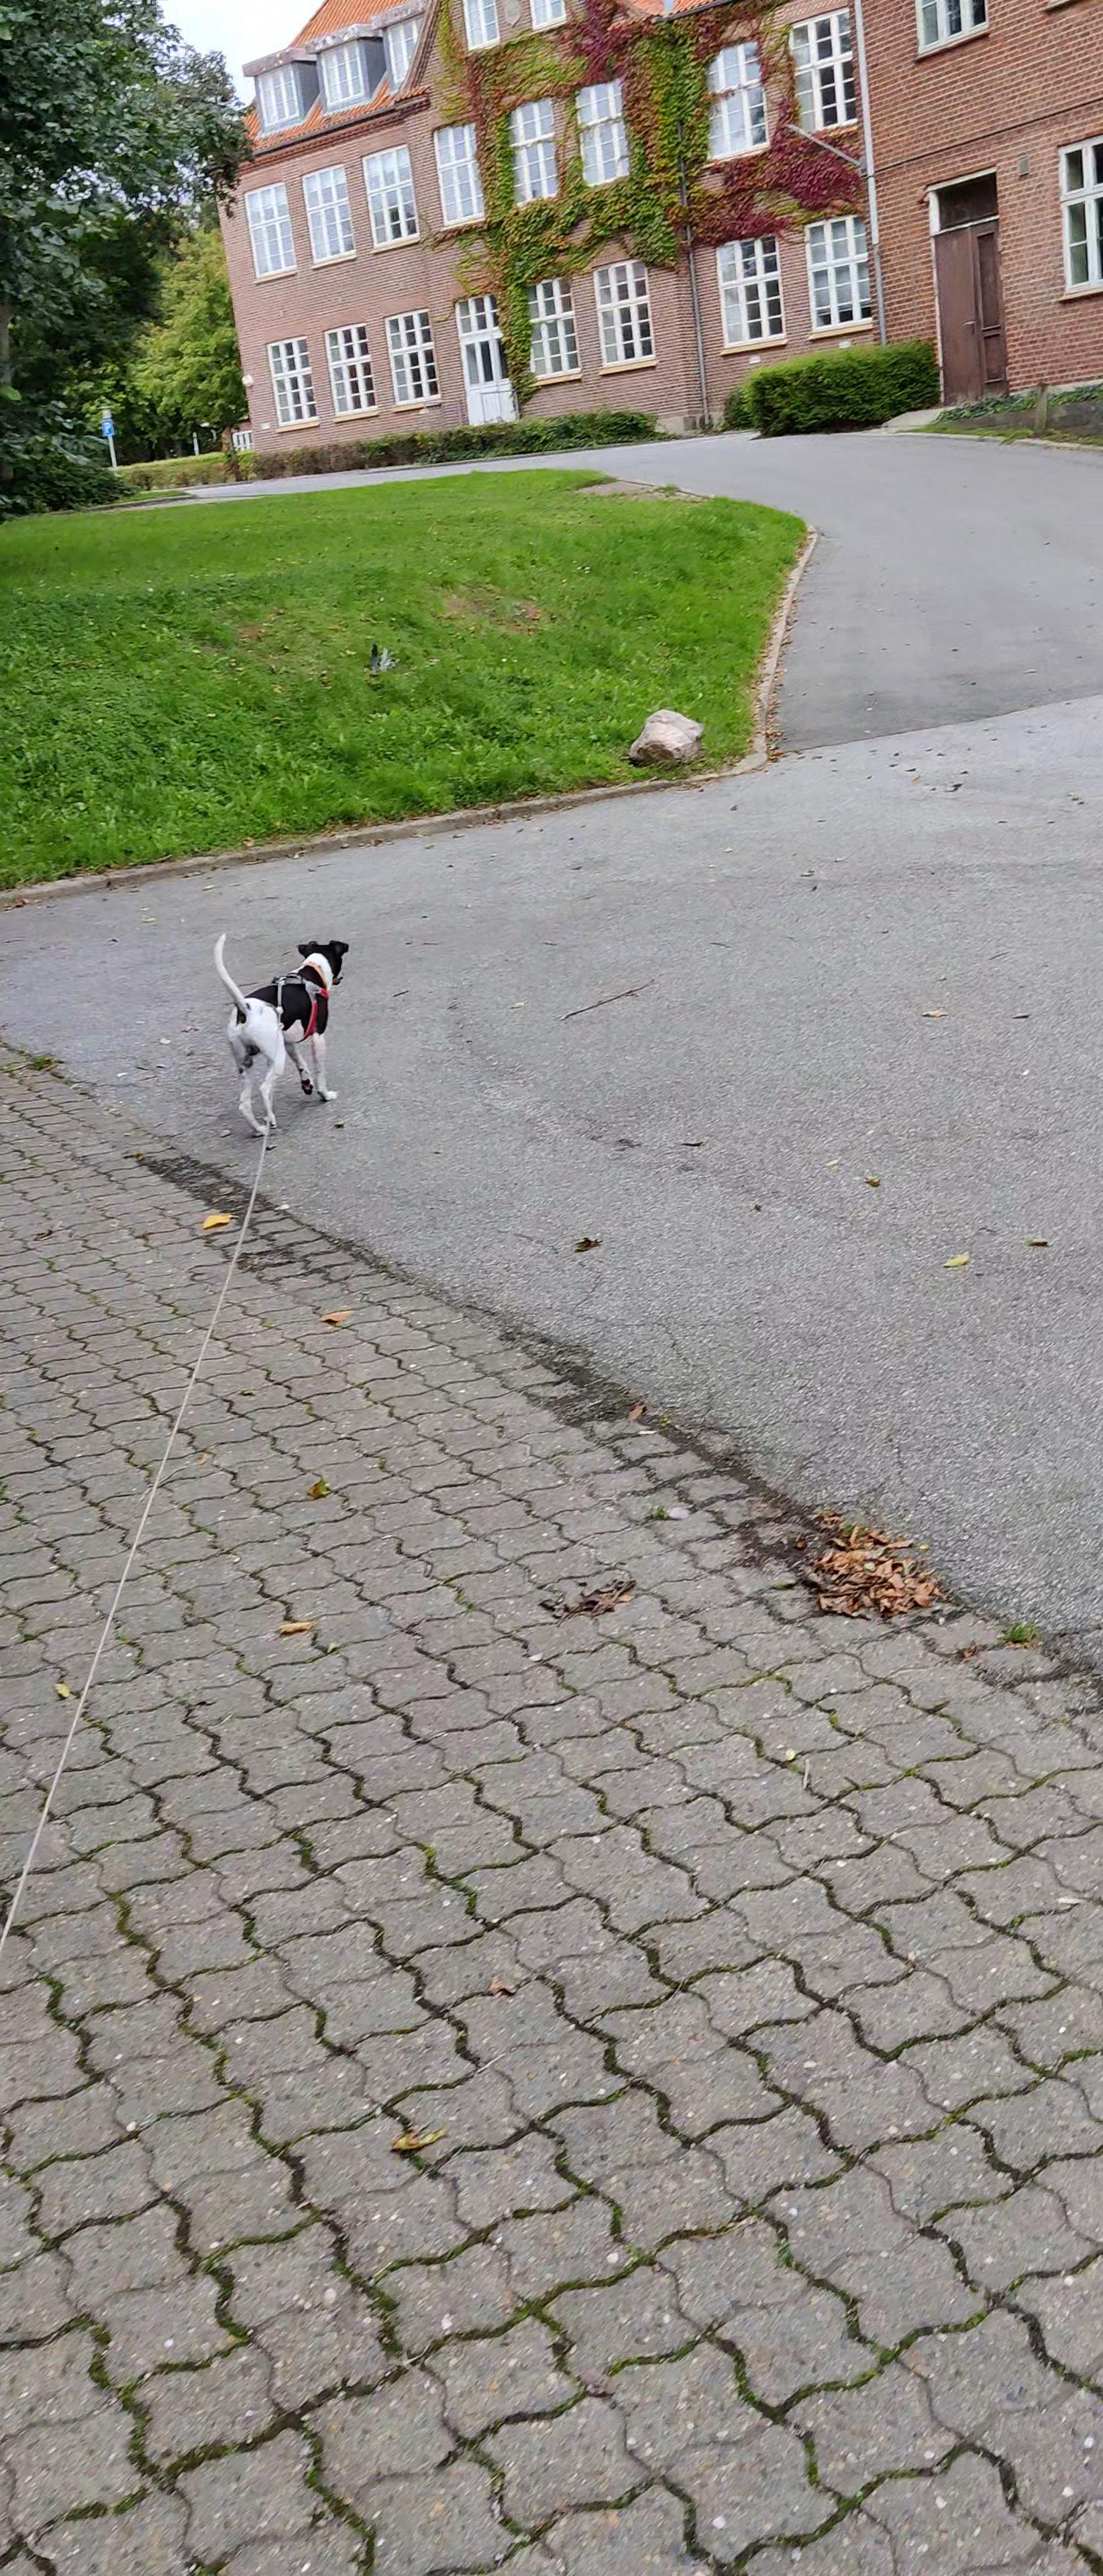Dog: (205, 918, 357, 1135)
